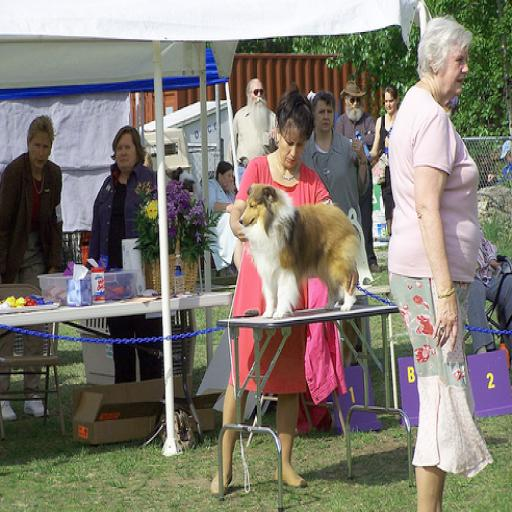dog_face: (238, 184, 281, 239)
